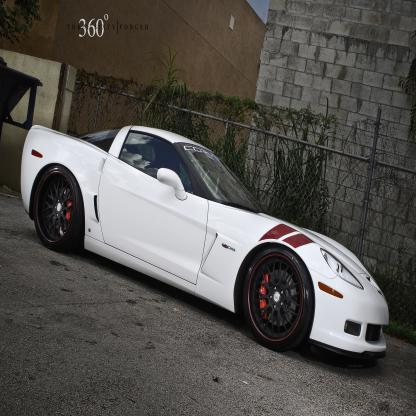Vehicle: (15, 103, 393, 367)
